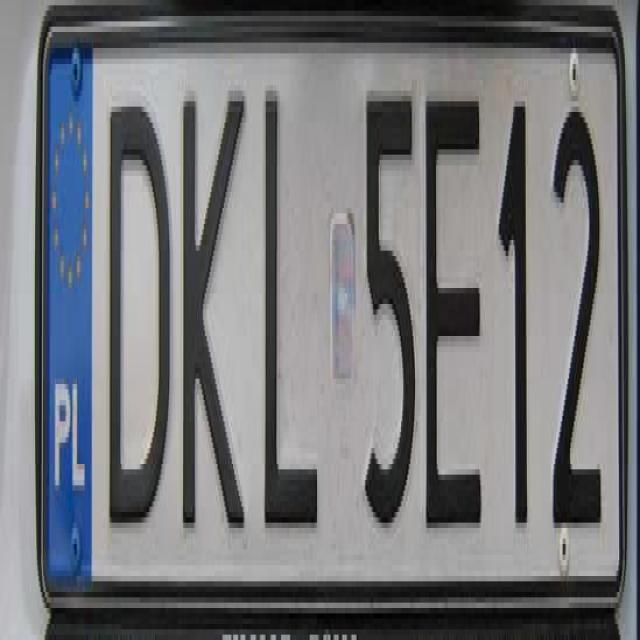EU: (36, 16, 640, 621)
Pologne: (42, 47, 94, 596)
